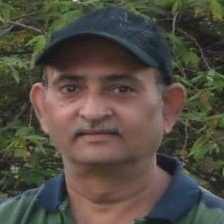no_mask: (45, 57, 165, 160)
